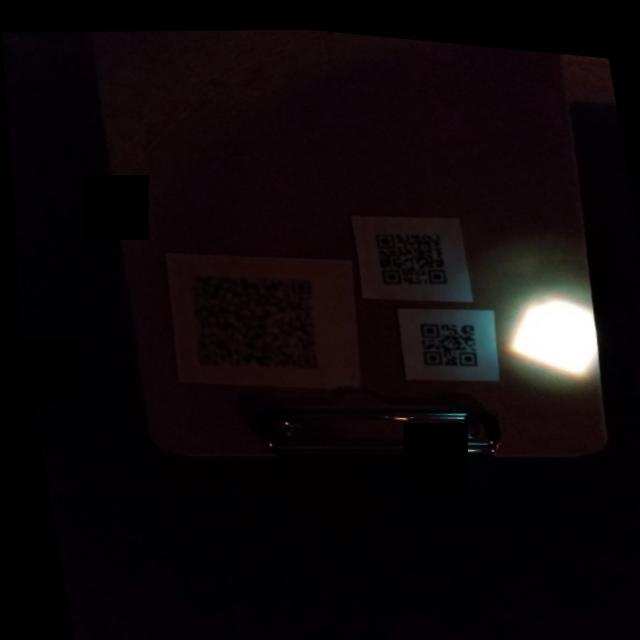QR_CODE: (164, 247, 332, 389), (358, 207, 457, 293), (400, 299, 489, 377)
